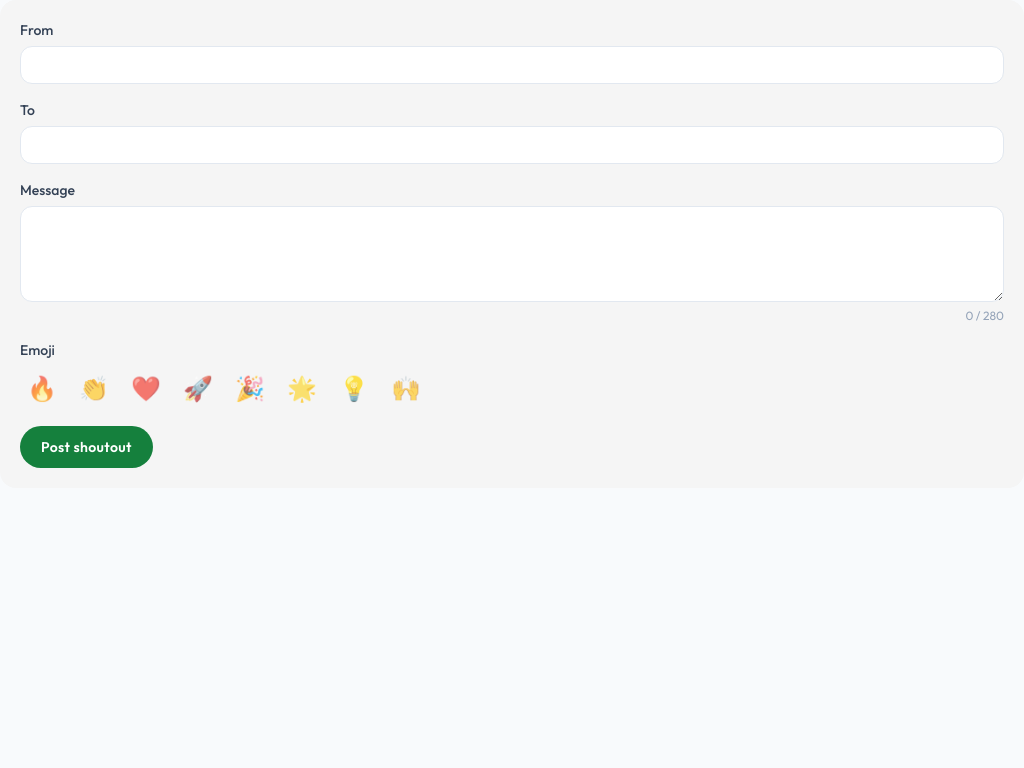
ShoutoutForm › shows a validation error when submitting with an empty required field
The width and height of the screenshot is (1024, 768).
Click the button "Post shoutout": (86, 447) [20, 426, 153, 468]
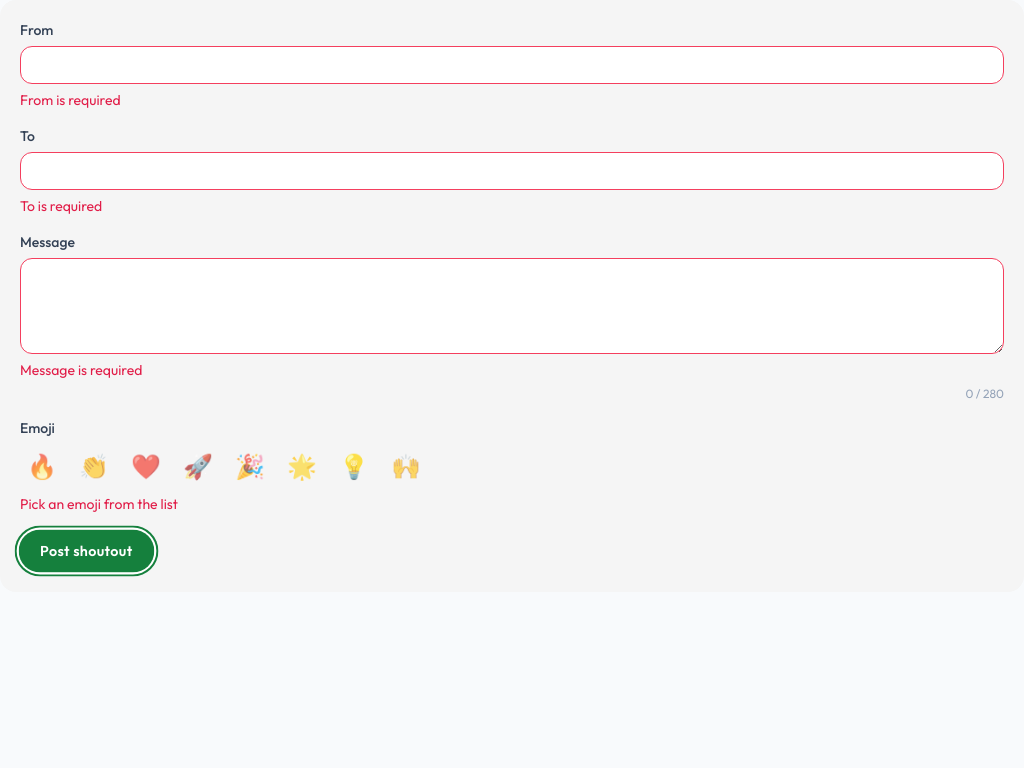
Check: the text "From is required" is shown, box [20, 91, 121, 109]
